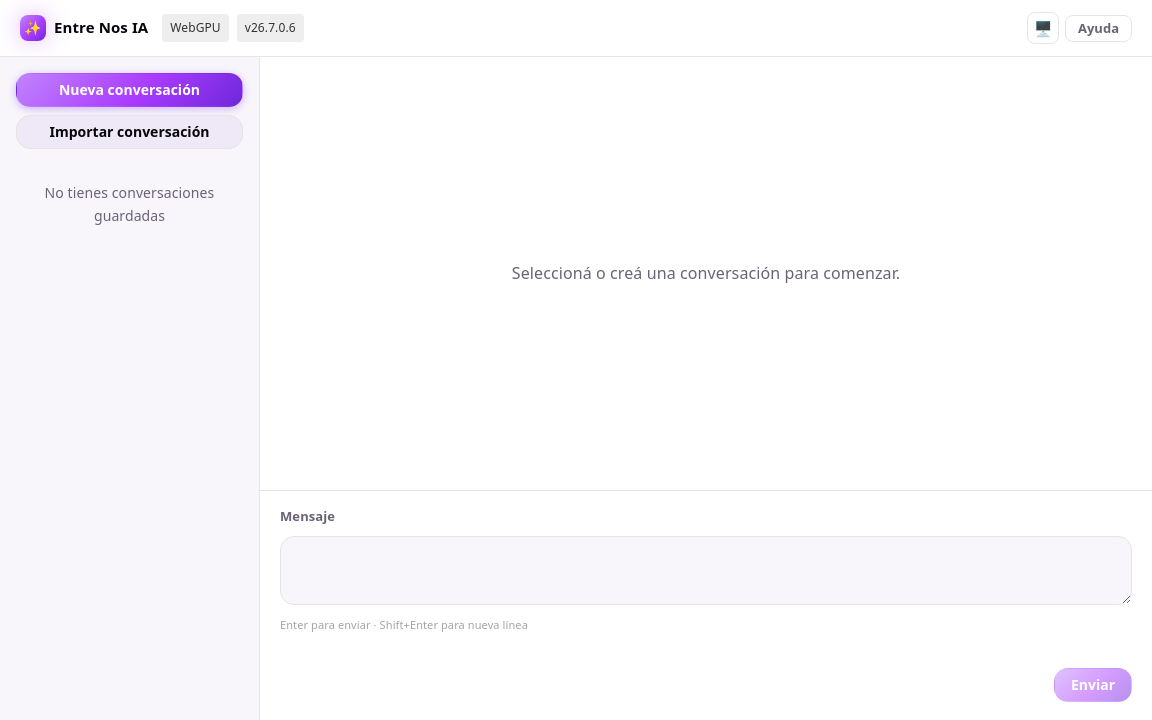
Test: e2e integration - cancelling an in-progress generation (4.5) › clicking Cancelar persists the partial text generated up to that point as a real Message
Click the text box labelled "Mensaje": (706,571) [280,536,1132,605]
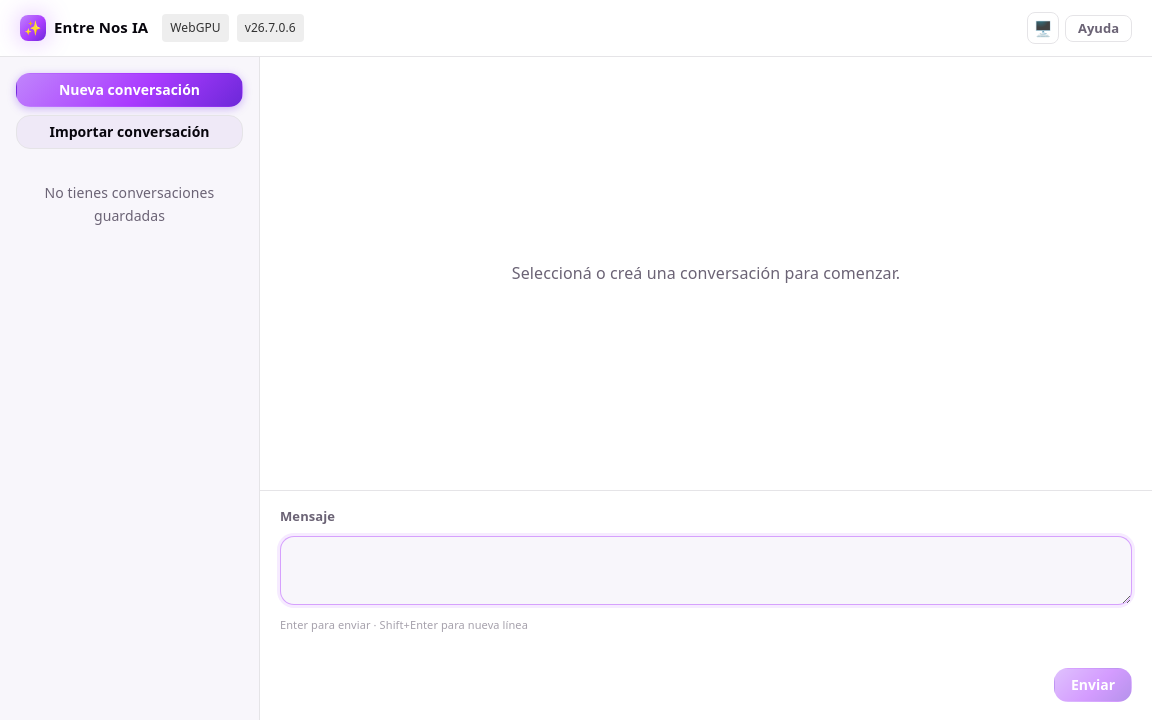
Type keys "hola, generá algo largo"
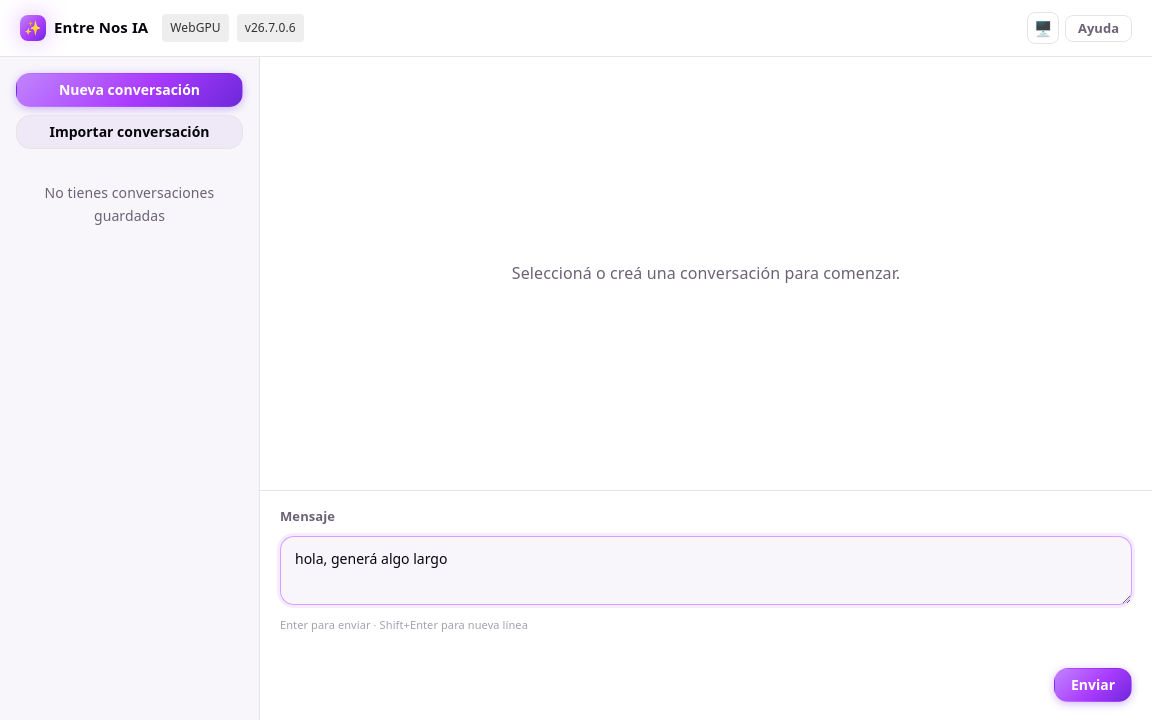
Click the button "Enviar": (1093,685) [1054,668,1132,702]
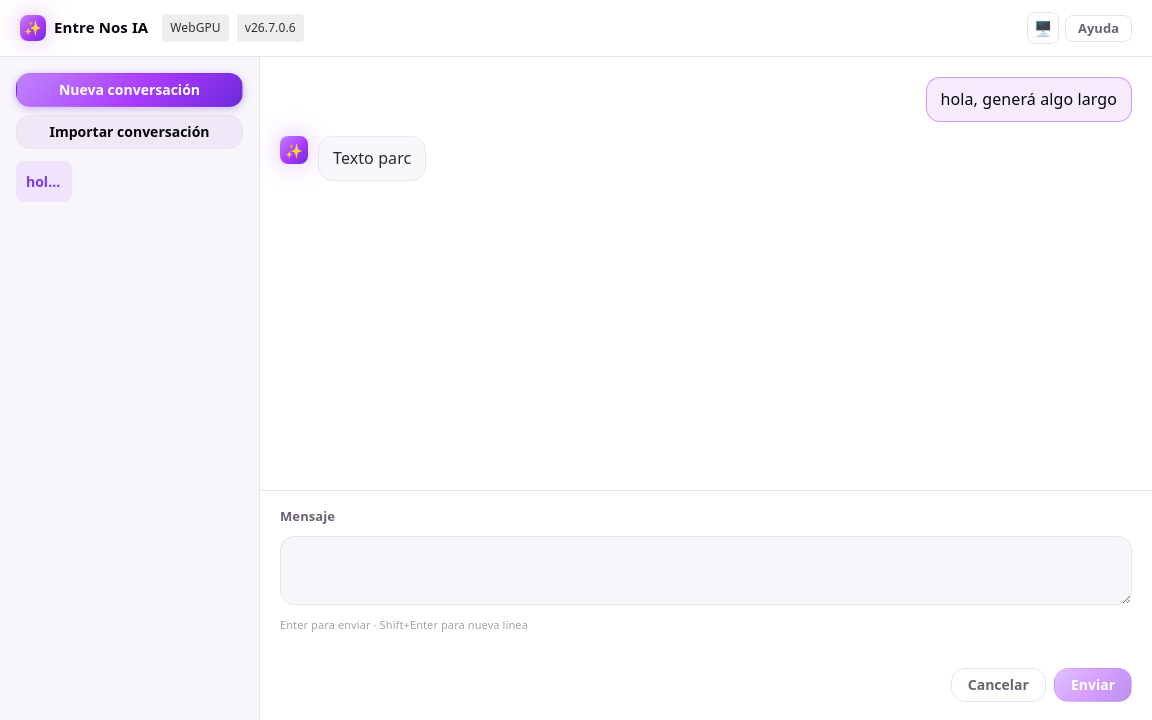
expect the button "Cancelar" is shown: met
Click the button "Cancelar": (998,685) [951,668,1046,702]
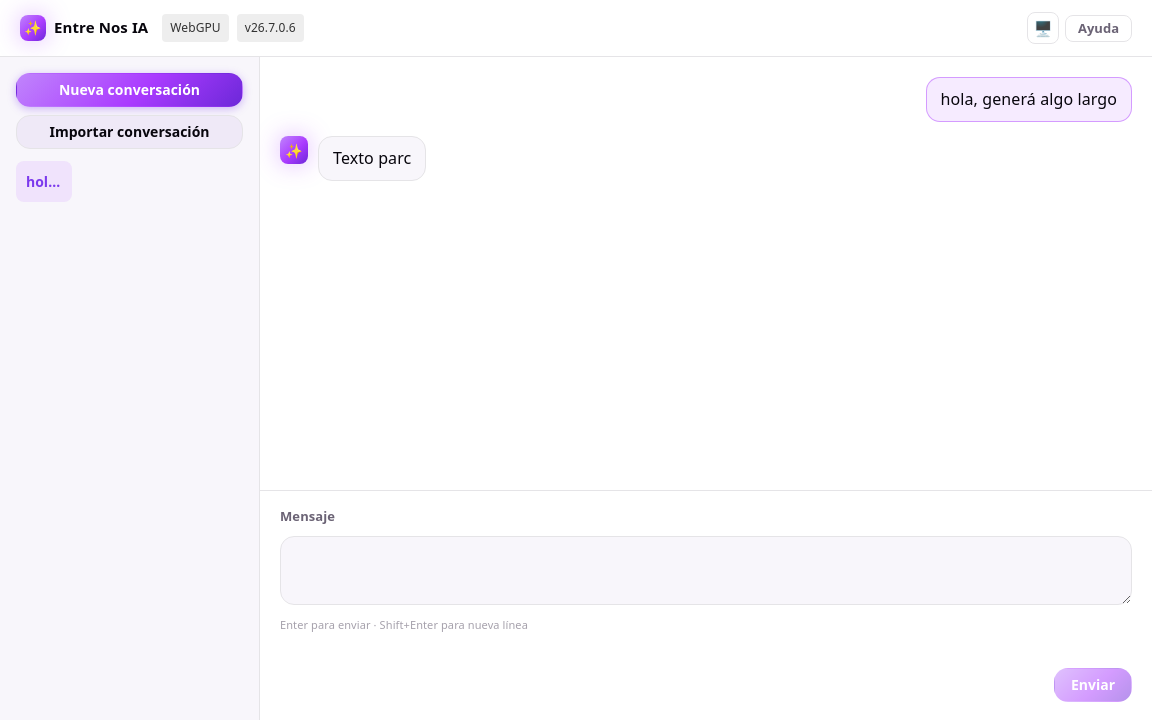
expect the text "Texto parc" is shown: met, box [333,147,411,170]
expect the button "Cancelar" is gone: met
